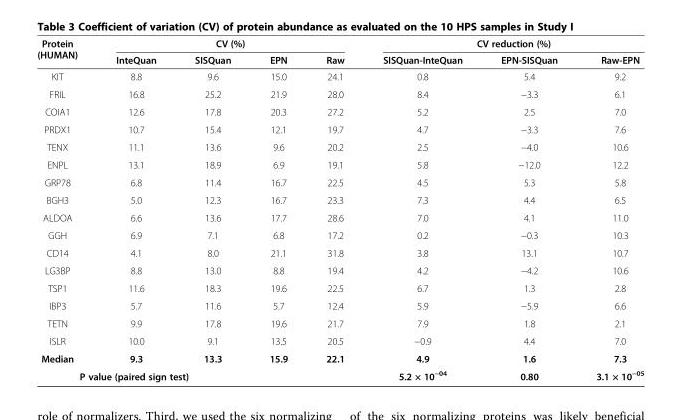table: (36, 37, 643, 381)
table column: (363, 37, 481, 381), (481, 37, 576, 381), (96, 37, 174, 381), (174, 37, 249, 381), (576, 37, 643, 381), (36, 37, 96, 381), (249, 37, 306, 381), (306, 37, 363, 381)
table column header: (36, 37, 643, 67)
table row: (36, 84, 643, 102), (36, 102, 643, 120), (36, 137, 643, 155), (36, 155, 643, 173), (36, 190, 643, 208), (36, 225, 643, 243), (36, 243, 643, 261), (36, 261, 643, 279), (36, 296, 643, 314), (36, 331, 643, 349), (36, 67, 643, 84), (36, 120, 643, 137), (36, 173, 643, 190), (36, 208, 643, 225), (36, 279, 643, 296), (36, 314, 643, 331), (36, 349, 643, 366), (36, 51, 643, 67), (36, 366, 643, 381), (36, 37, 643, 51)
table spanning cell: (363, 37, 643, 51), (96, 37, 363, 51), (36, 366, 249, 381), (36, 37, 96, 67)
